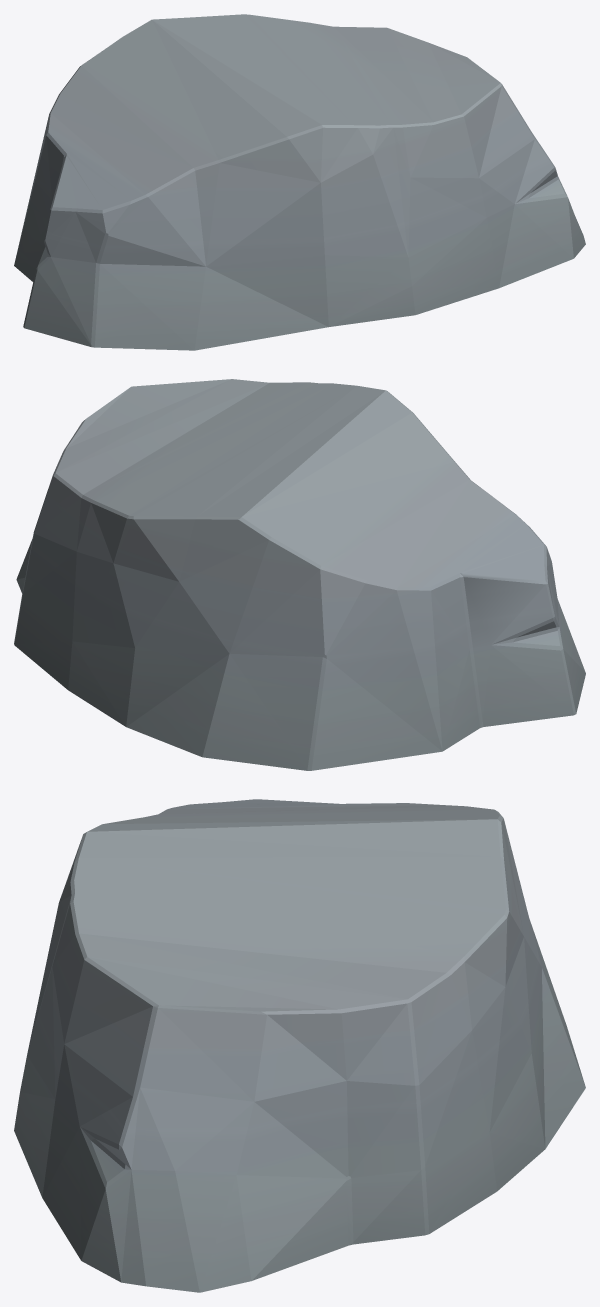
The model's file is rock_flat.glb.
3 views of the same model, one above another, from view 1: azimuth 30°, elevation 25°; view 2: azimuth 150°, elevation 25°; view 3: azimuth 270°, elevation 25° (orthographic). The views are drawn at different scales.
Parts seen in each view (by area): view 1: Rock_21_1_A; view 2: Rock_21_1_A; view 3: Rock_21_1_A.
Boxes of the visible parts, x1,y1,x2,y2 form: Rock_21_1_A: [14, 14, 585, 350]; Rock_21_1_A: [14, 379, 585, 770]; Rock_21_1_A: [14, 799, 585, 1292].
Size of the model in its own units: 1.95 by 0.712 by 1.36.
Materials: 1 (1 with a texture image).
